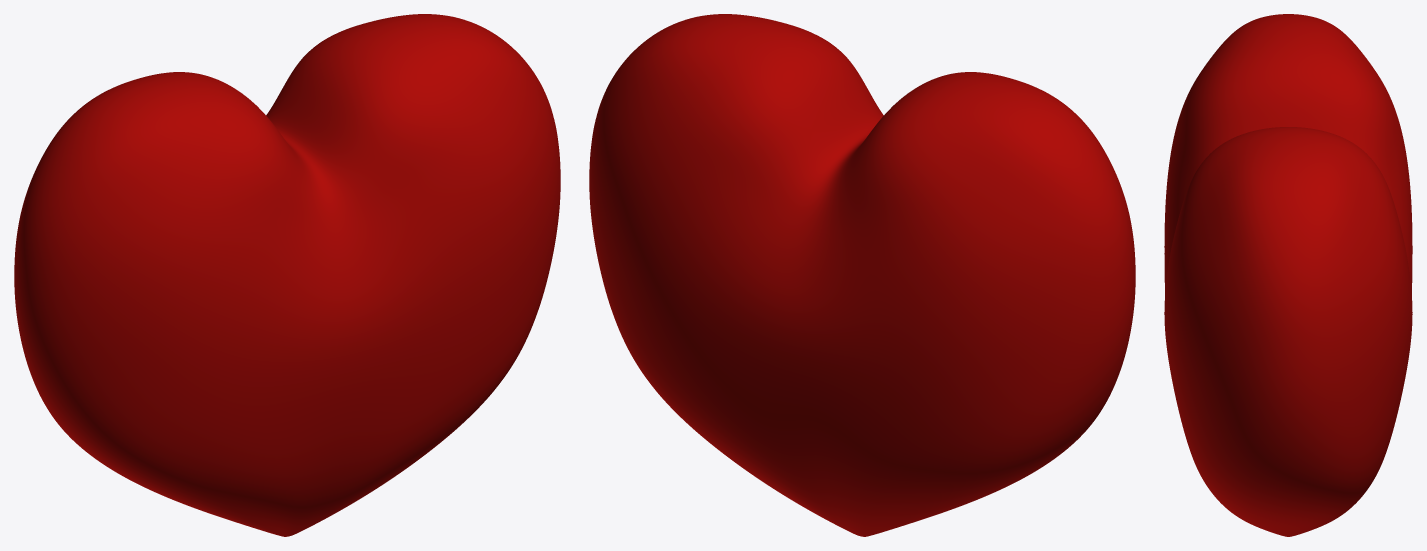
File: heart.glb
3 renders of one model, left to right at view 1: azimuth 30°, elevation 25°; view 2: azimuth 150°, elevation 25°; view 3: azimuth 270°, elevation 25°, orthographic. The views are drawn at different scales.
Parts seen in each view (by area): view 1: heart; view 2: heart; view 3: heart.
Boxes of the visible parts, x1,y1,x2,y2 form: heart: [14, 14, 560, 536]; heart: [589, 14, 1135, 536]; heart: [1164, 14, 1412, 536].
Bounding box in the file's own units: 3.64 × 3.16 × 1.58.
